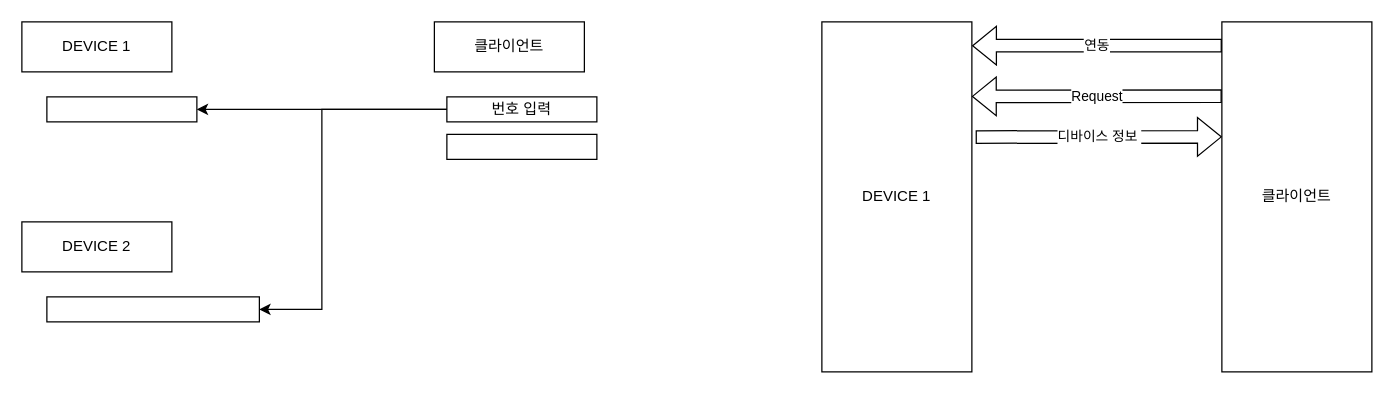
The diagram is 1394 pixels wide and 394 high, and some of its shapes have lost their labels. The centre of each missing label's shape, as x and y in pixels:
quit 중지: pixel 521 146
심박수, 걸음수, 소모칼로리: pixel 152 309
온도, 습도, 조도: pixel 121 109
